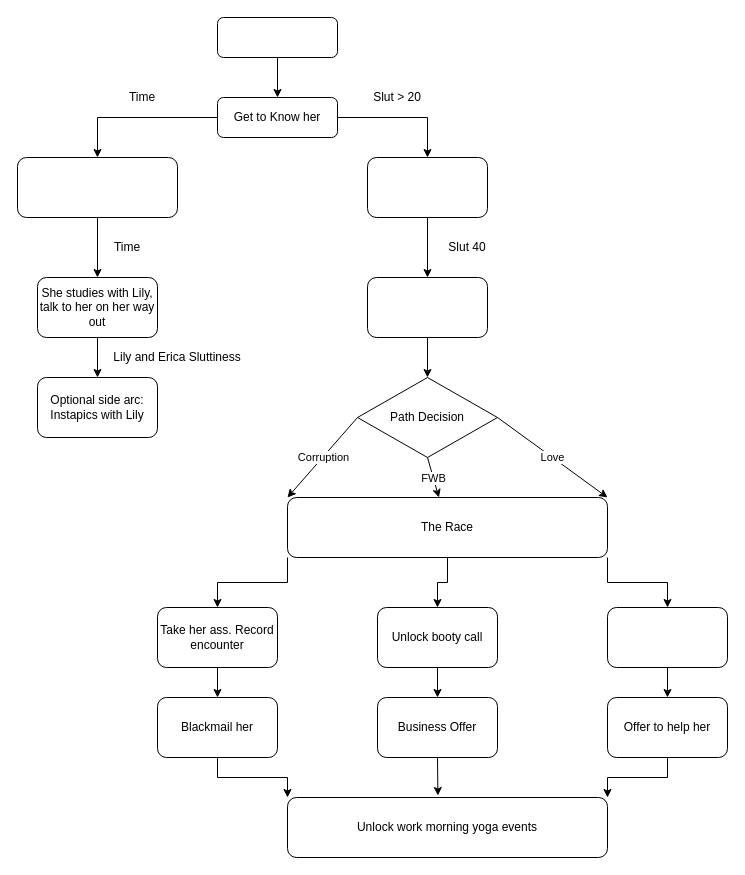
Some shapes in this 745 by 875 pixel diagram are drawn without their labels. Here are the shapes that lost their labels. From the top down, the centre of each, then its label:
At (277,37): "Erica Intro".
At (97,187): "See her hanging out with Lily at University".
At (427,187): "Workout Together (Oral ending)".
At (427,307): "Challenge to race".
At (667,637): "Stay the night, becomes girlfriend".
